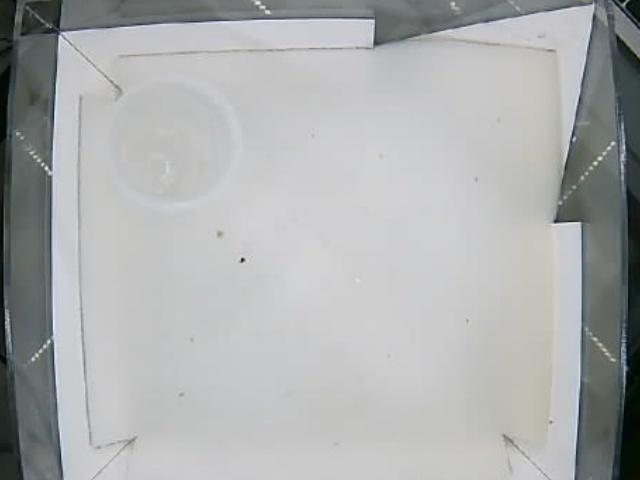Bottle: (107, 79, 246, 219)
